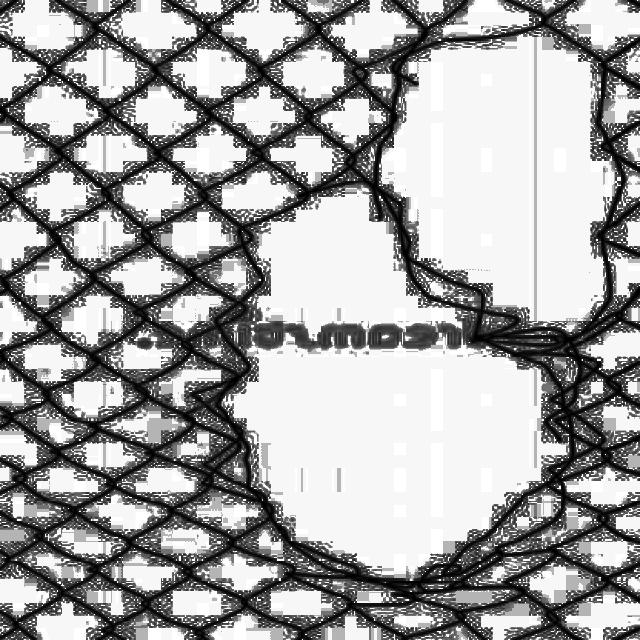anomaly-fence: (177, 0, 640, 619)
